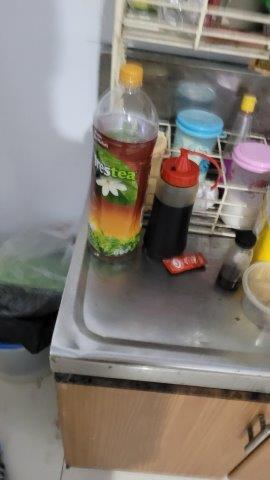botolplastik: (89, 63, 159, 260)
